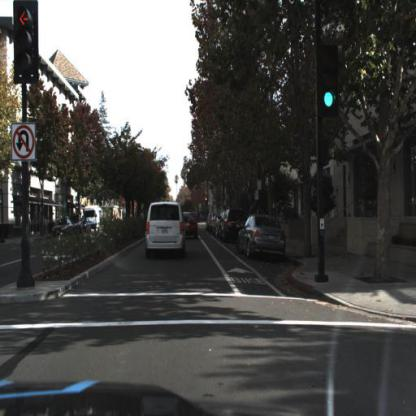car: (142, 196, 189, 263), (235, 214, 286, 258), (176, 202, 202, 245), (221, 207, 248, 248), (222, 206, 247, 248), (83, 204, 103, 236), (53, 215, 76, 241), (53, 215, 74, 239), (83, 206, 100, 233), (70, 213, 82, 236)
trafficLight: (318, 43, 339, 118)
trafficLight-RedLeft: (16, 4, 36, 82)
